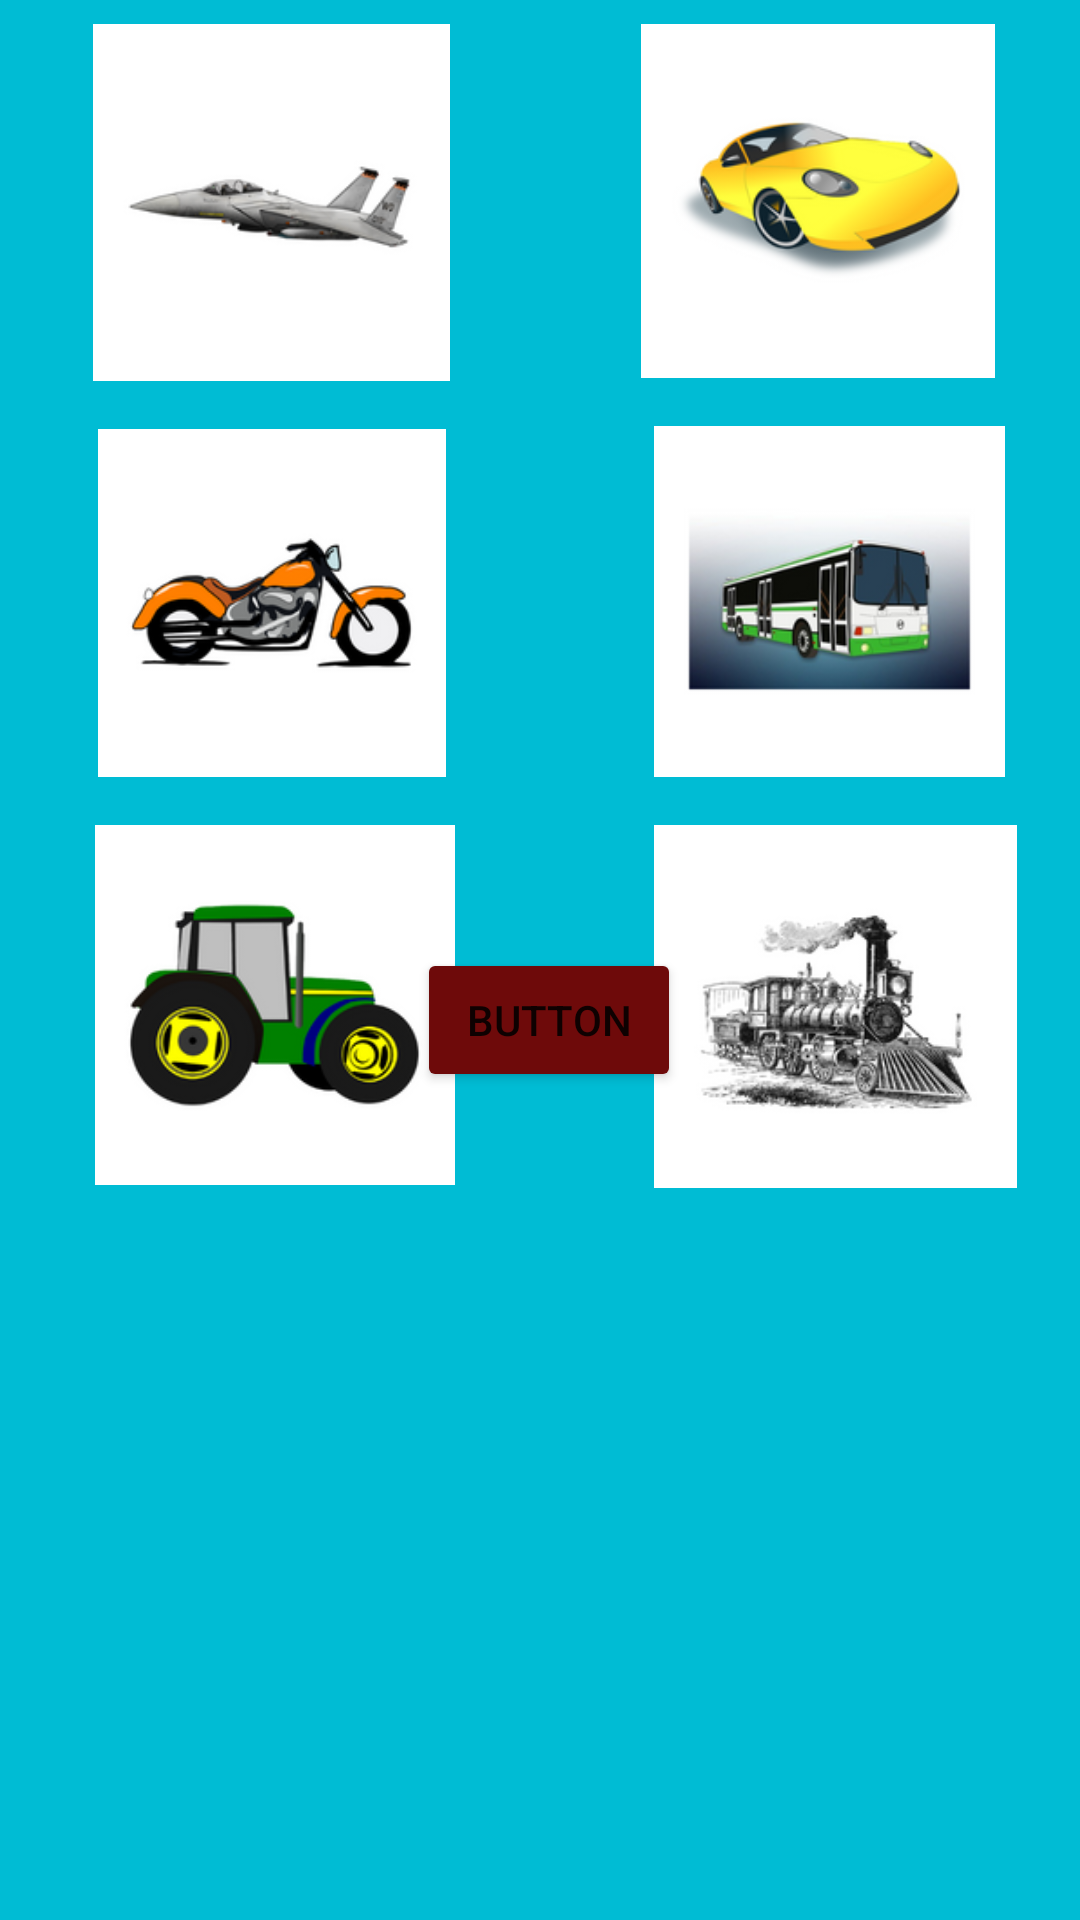

Named icons in this screenshot (1080*1920) and their bounding boxes, BBox(x1, y1, x2, y2):
aviao: BBox(93, 24, 450, 381)
carro: BBox(641, 24, 995, 378)
moto: BBox(98, 429, 446, 777)
onibus: BBox(654, 426, 1005, 777)
